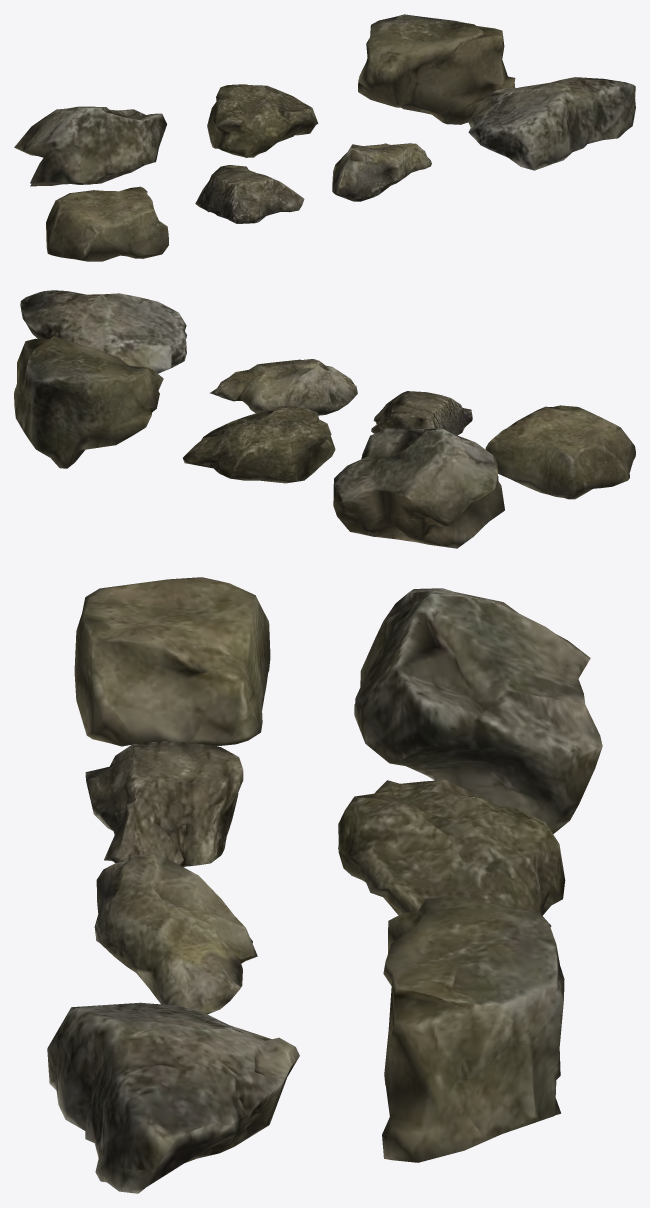
File: mossrock_b_lod1.glb
The picture shows the model from 3 angles, top to bottom: view 1: azimuth 30°, elevation 25°; view 2: azimuth 150°, elevation 25°; view 3: azimuth 270°, elevation 25°; orthographic projection. The views are drawn at different scales.
Parts seen in each view (by area): view 1: rock_moss_set_02_rock13, rock_moss_set_02_rock10, rock_moss_set_02_rock11, rock_moss_set_02_rock07, rock_moss_set_02_rock12, rock_moss_set_02_rock08, rock_moss_set_02_rock09; view 2: rock_moss_set_02_rock11, rock_moss_set_02_rock13, rock_moss_set_02_rock07, rock_moss_set_02_rock10, rock_moss_set_02_rock12, rock_moss_set_02_rock09, rock_moss_set_02_rock08; view 3: rock_moss_set_02_rock11, rock_moss_set_02_rock13, rock_moss_set_02_rock10, rock_moss_set_02_rock07, rock_moss_set_02_rock12, rock_moss_set_02_rock09, rock_moss_set_02_rock08.
Part boxes in pixels (x1,y1,x2,y2): rock_moss_set_02_rock13: (358,14,515,124); rock_moss_set_02_rock10: (468,77,635,170); rock_moss_set_02_rock11: (14,106,166,186); rock_moss_set_02_rock07: (46,186,168,261); rock_moss_set_02_rock12: (207,84,318,157); rock_moss_set_02_rock08: (195,165,304,223); rock_moss_set_02_rock09: (332,143,431,201); rock_moss_set_02_rock11: (333,428,504,548); rock_moss_set_02_rock13: (14,336,163,468); rock_moss_set_02_rock07: (485,405,635,499); rock_moss_set_02_rock10: (20,290,186,373); rock_moss_set_02_rock12: (183,406,335,483); rock_moss_set_02_rock09: (210,359,357,415); rock_moss_set_02_rock08: (371,391,472,435); rock_moss_set_02_rock11: (354,588,602,833); rock_moss_set_02_rock13: (382,895,564,1162); rock_moss_set_02_rock10: (47,1002,299,1193); rock_moss_set_02_rock07: (74,577,270,746); rock_moss_set_02_rock12: (338,780,565,926); rock_moss_set_02_rock09: (94,852,257,1014); rock_moss_set_02_rock08: (85,741,243,867).
Bounding box in the file's own units: 8.28 × 1.36 × 3.41.
Materials: 1 (1 with a texture image).
